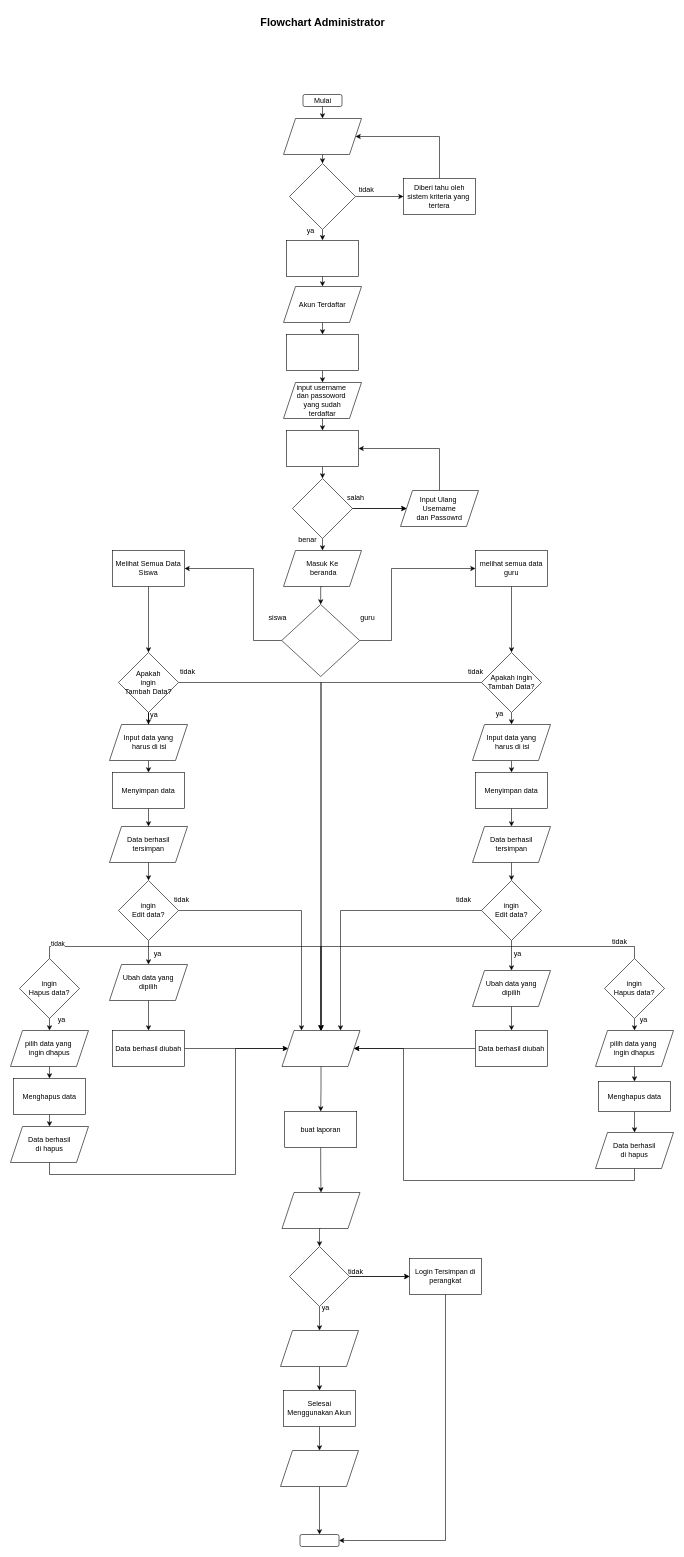
The diagram is 684 pixels wide and 1557 high, and some of its shapes have lost their labels. Here are the shapes that lost their labels. From the top down, the centre of each, then its label:
At (322,136): "Input Data Register".
At (322,196): "apakah inputan yang di input sesuai kriteria ?".
At (322,258): "Data Masuk Ke Database".
At (322,352): "Masuk ke from login".
At (322,448): "Sistem Melakukan Validasi".
At (322,508): "Apakah Password dan Username Benar?".
At (320,640): "Ingin Pergi ke data siswa atau ke data guru ?".
At (320,1048): "Balik Ke beranda".
At (320,1210): "Laporan selesai".
At (319,1276): "Ingin Logout?".
At (319,1348): "Logout akun".
At (319,1468): "Logout berhasil".
At (319,1540): "Selesai".
